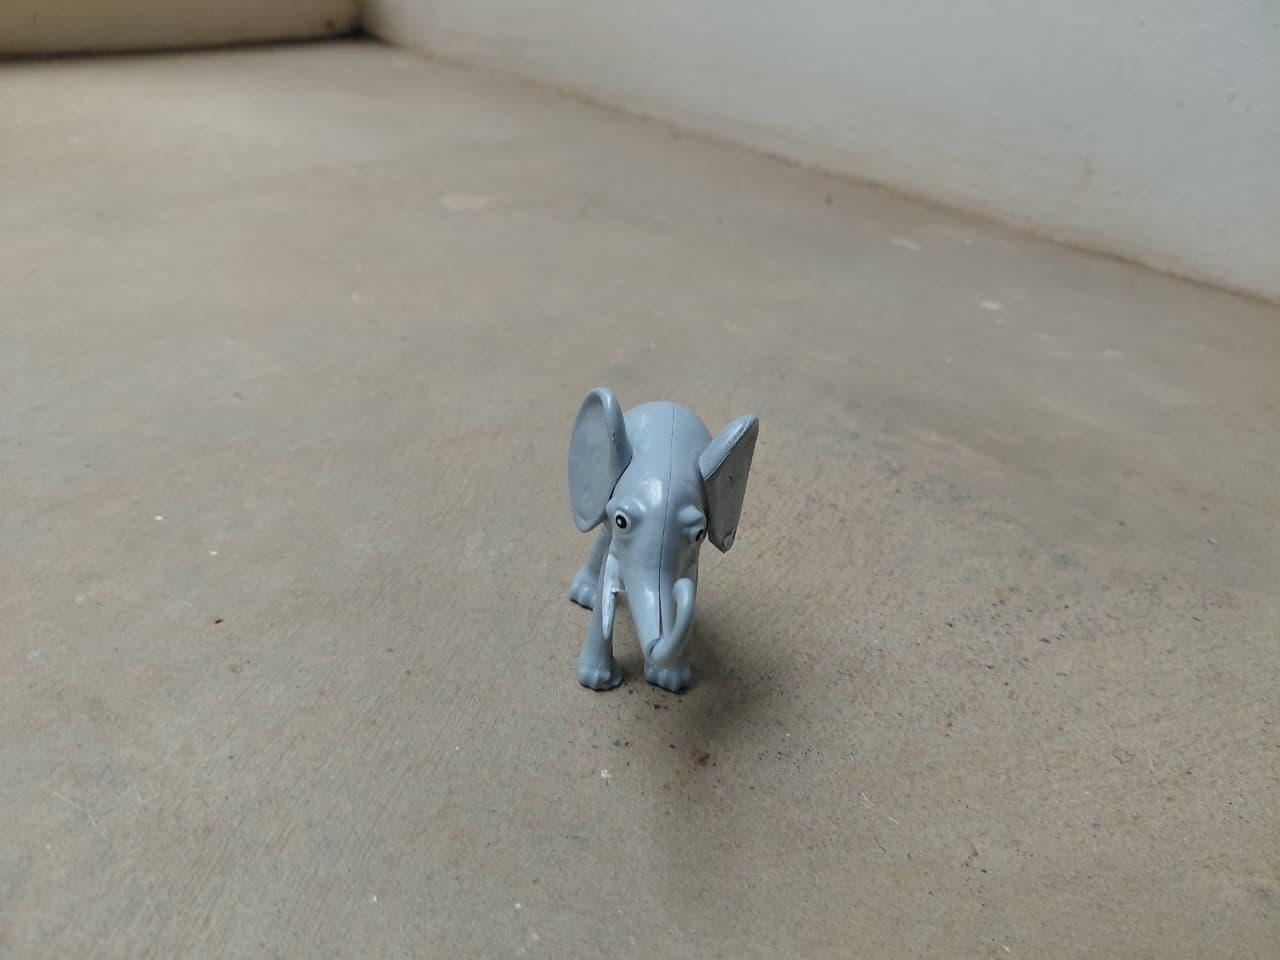elephant: (530, 360, 766, 708)
